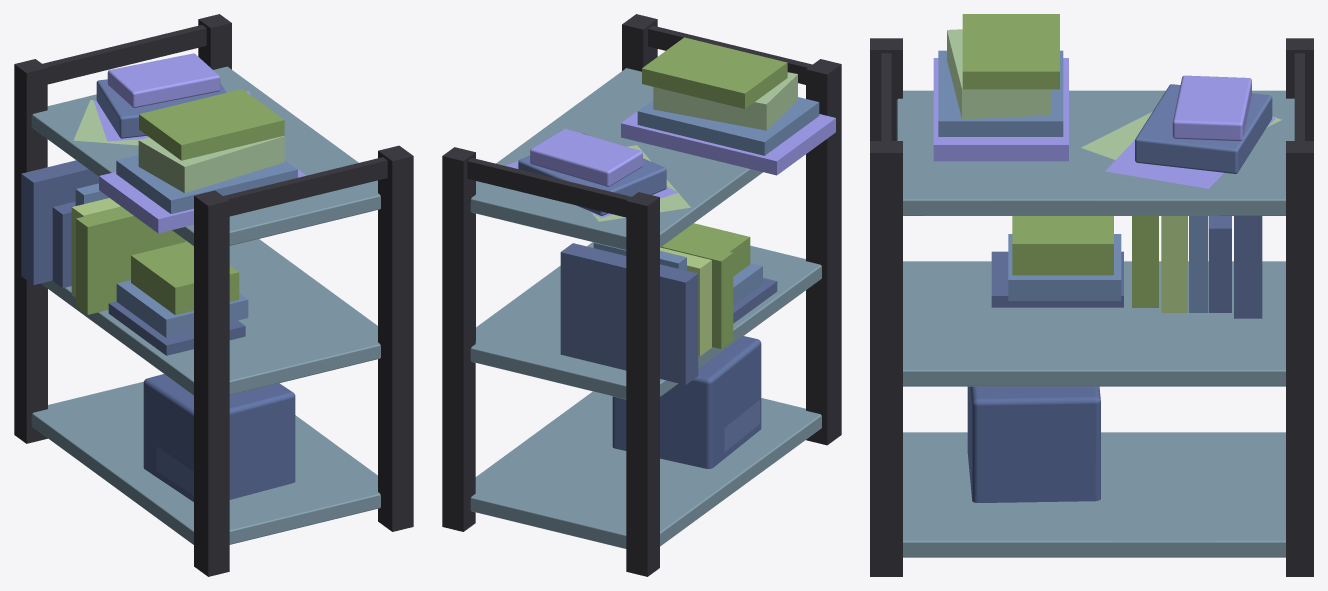
The model's file is bookshelf-transformed.glb.
3 views of the same model, side by side, from view 1: azimuth 30°, elevation 25°; view 2: azimuth 150°, elevation 25°; view 3: azimuth 270°, elevation 25° (orthographic). The views are drawn at different scales.
Parts seen in each view (by area): view 1: Cube 15, Cube 14, Cube 13, Cube 16, Cube 12, Cube.001, Cube 18.002, book-4, Cube 5.001, Cube, book-1 2, book-1 (+13 smaller); view 2: Cube 15, Cube 12, Cube 18.002, Cube 18, Cube 14, Cube, Cube 13, Cube.001, book-4, book-4 2, book-3, book-1 (+13 smaller); view 3: Cube 15, Cube 14, Cube 12, Cube.001, Cube 16, Cube 18, book-4, Cube 7, book-3.001, book-1, book-4 2, book-3 (+14 smaller).
Part boxes in pixels (x1,y1,x2,y2): Cube 15: (31,381,380,544); Cube 14: (41,239,380,395); Cube 13: (194,190,229,576); Cube 16: (378,145,413,531); Cube 12: (31,66,380,245); Cube.001: (143,374,295,501); Cube 18.002: (14,59,47,443); book-4: (139,89,284,160); Cube 5.001: (76,207,185,314); Cube: (21,160,98,284); book-1 2: (138,136,284,193); book-1: (107,53,220,107); Cube 15: (470,391,821,548); Cube 12: (470,68,762,249); Cube 18.002: (626,192,659,576); Cube 18: (442,147,475,531); Cube 14: (470,242,821,399); Cube: (560,243,698,384); Cube 13: (806,59,841,445); Cube.001: (612,336,761,468); book-4: (642,37,787,108); book-4 2: (621,100,835,175); book-3: (637,97,819,155); book-1: (530,128,642,186); Cube 15: (903,432,1285,557); Cube 14: (903,261,1285,386); Cube 12: (896,90,1294,215); Cube.001: (967,386,1100,502); Cube 16: (870,141,902,576); Cube 18: (1286,141,1313,576); book-4: (962,14,1059,89); Cube 7: (1012,216,1113,275); book-3.001: (1135,84,1272,173); book-1: (1172,75,1251,141); book-4 2: (933,58,1068,161); book-3: (938,50,1063,136).
Size of the model in its own units: 0.8934 by 1.5 by 1.32.
